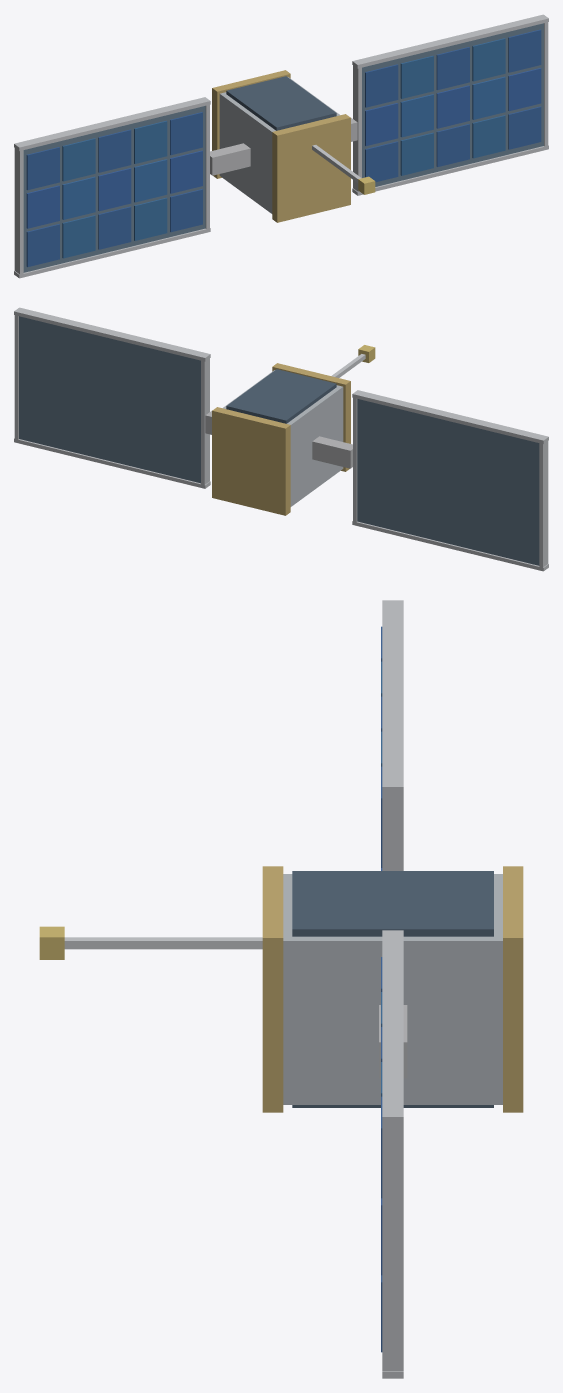
Rendered from cubesat-01.glb.
3 renders of one model, top to bottom at view 1: azimuth 30°, elevation 25°; view 2: azimuth 150°, elevation 25°; view 3: azimuth 270°, elevation 25°, orthographic. The views are drawn at different scales.
Visible parts, largest first — view 1: top_electronics_cap, left_solar_backing, right_solar_backing, central_aluminium_bus, central_dark_panel_back, right_edge_top, left_edge_top, left_edge_x_-0.19, right_cell_0_2, left_cell_0_0, left_cell_0_1, left_cell_0_2 (+34 smaller); view 2: left_solar_backing, right_solar_backing, bottom_cap, central_aluminium_bus, central_dark_panel_back, right_edge_top, left_edge_top, left_edge_x_-0.19, right_edge_x_-0.19, top_electronics_cap, left_hinge, right_edge_bottom (+3 smaller); view 3: central_aluminium_bus, central_dark_panel_back, top_electronics_cap, right_edge_x_0.19, bottom_cap, right_edge_top, left_edge_top, antenna_rod, left_edge_x_0.19.
Boxes of the visible parts, box(x1,y1,x2,y2) form: top_electronics_cap: box(272, 114, 350, 222); left_solar_backing: box(23, 106, 205, 272); right_solar_backing: box(362, 23, 543, 186); central_aluminium_bus: box(219, 77, 340, 213); central_dark_panel_back: box(226, 76, 336, 130); right_edge_top: box(352, 14, 548, 68); left_edge_top: box(14, 97, 210, 150); left_edge_x_-0.19: box(14, 148, 23, 274); right_cell_0_2: box(365, 64, 398, 107); left_cell_0_0: box(26, 224, 59, 267); left_cell_0_1: box(26, 185, 59, 228); left_cell_0_2: box(26, 147, 59, 190); left_solar_backing: box(357, 399, 539, 565); right_solar_backing: box(19, 316, 200, 483); bottom_cap: box(212, 407, 290, 515); central_aluminium_bus: box(222, 370, 343, 506); central_dark_panel_back: box(226, 369, 336, 423); right_edge_top: box(14, 307, 210, 361); left_edge_top: box(352, 390, 548, 443); left_edge_x_-0.19: box(539, 441, 548, 568); right_edge_x_-0.19: box(201, 358, 209, 484); top_electronics_cap: box(272, 363, 350, 471); left_hinge: box(312, 436, 352, 468); right_edge_bottom: box(14, 438, 210, 488); central_aluminium_bus: box(283, 874, 502, 1104); central_dark_panel_back: box(292, 871, 493, 936); top_electronics_cap: box(262, 866, 283, 1112); right_edge_x_0.19: box(382, 1124, 403, 1370); bottom_cap: box(503, 866, 523, 1112); right_edge_top: box(382, 930, 403, 1124); left_edge_top: box(382, 600, 403, 793); antenna_rod: box(64, 937, 262, 949); left_edge_x_0.19: box(382, 794, 403, 870).
Size of the model in its own units: 1.08 by 0.255 by 0.427.
